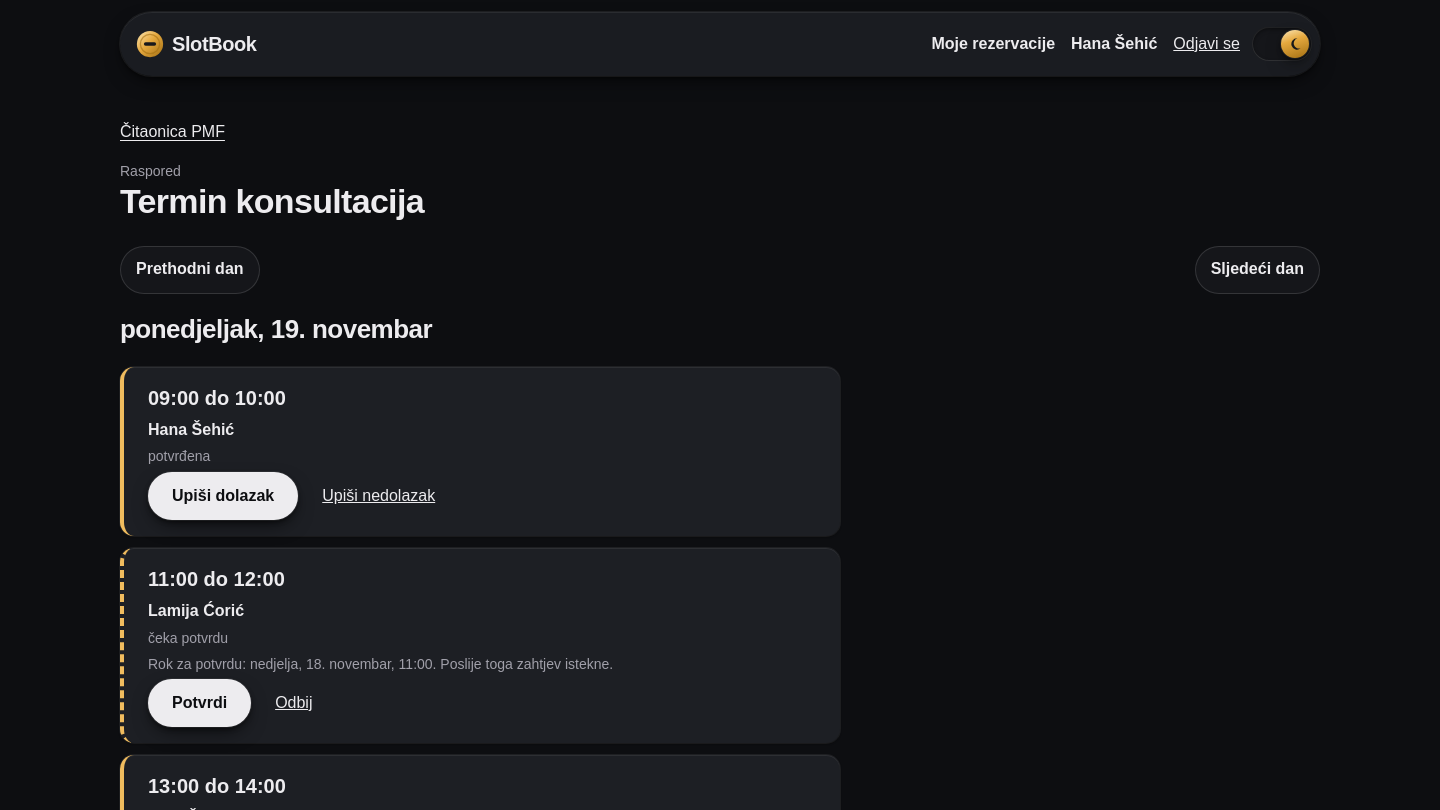
promjene › odbijanje traži potvrdu, a "Ne" ništa ne šalje
This screenshot has width=1440, height=810.
Click the button "Odbij".
click(294, 703)  # box [275,679,312,727]
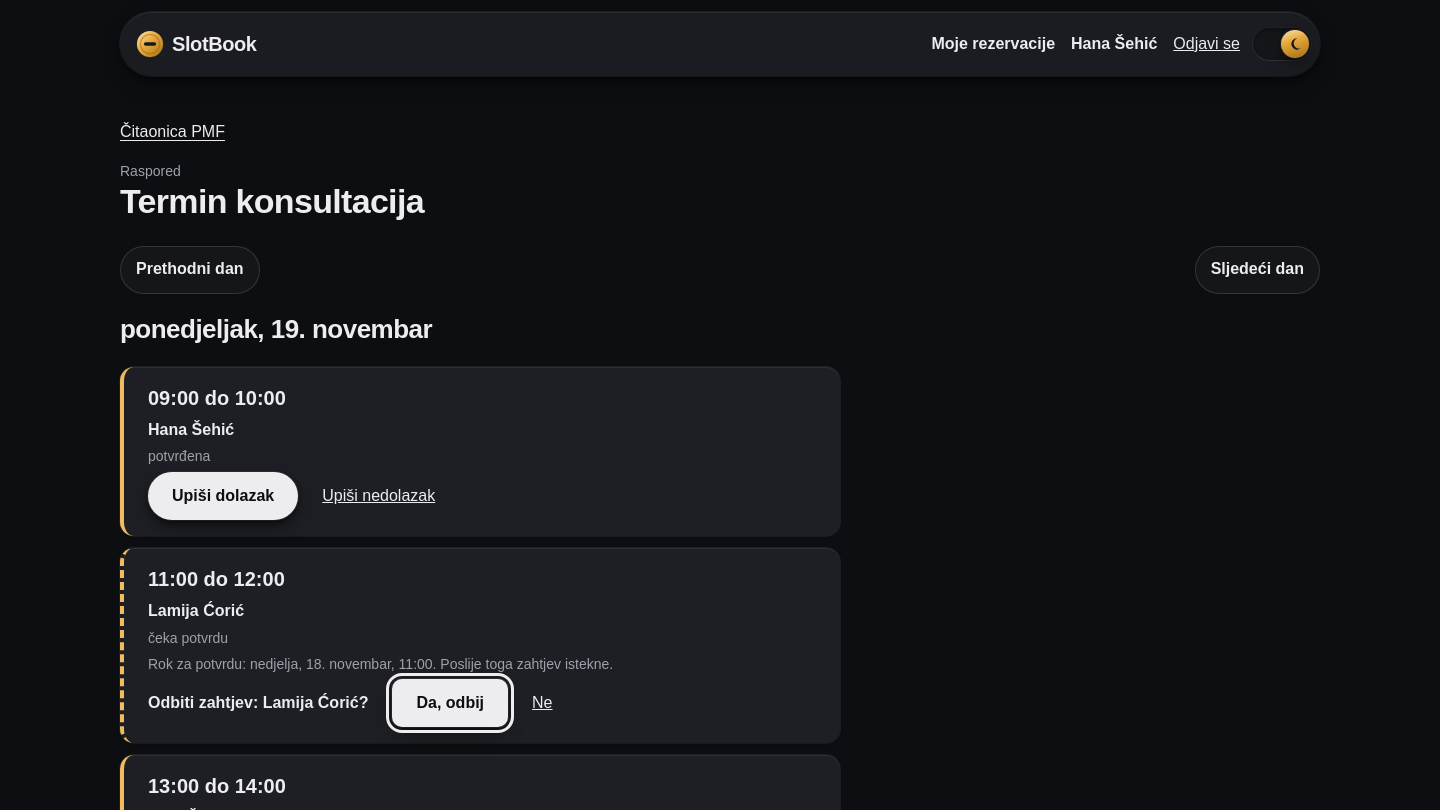
Click the button "Ne".
click(542, 703)  # box [532,679,552,727]
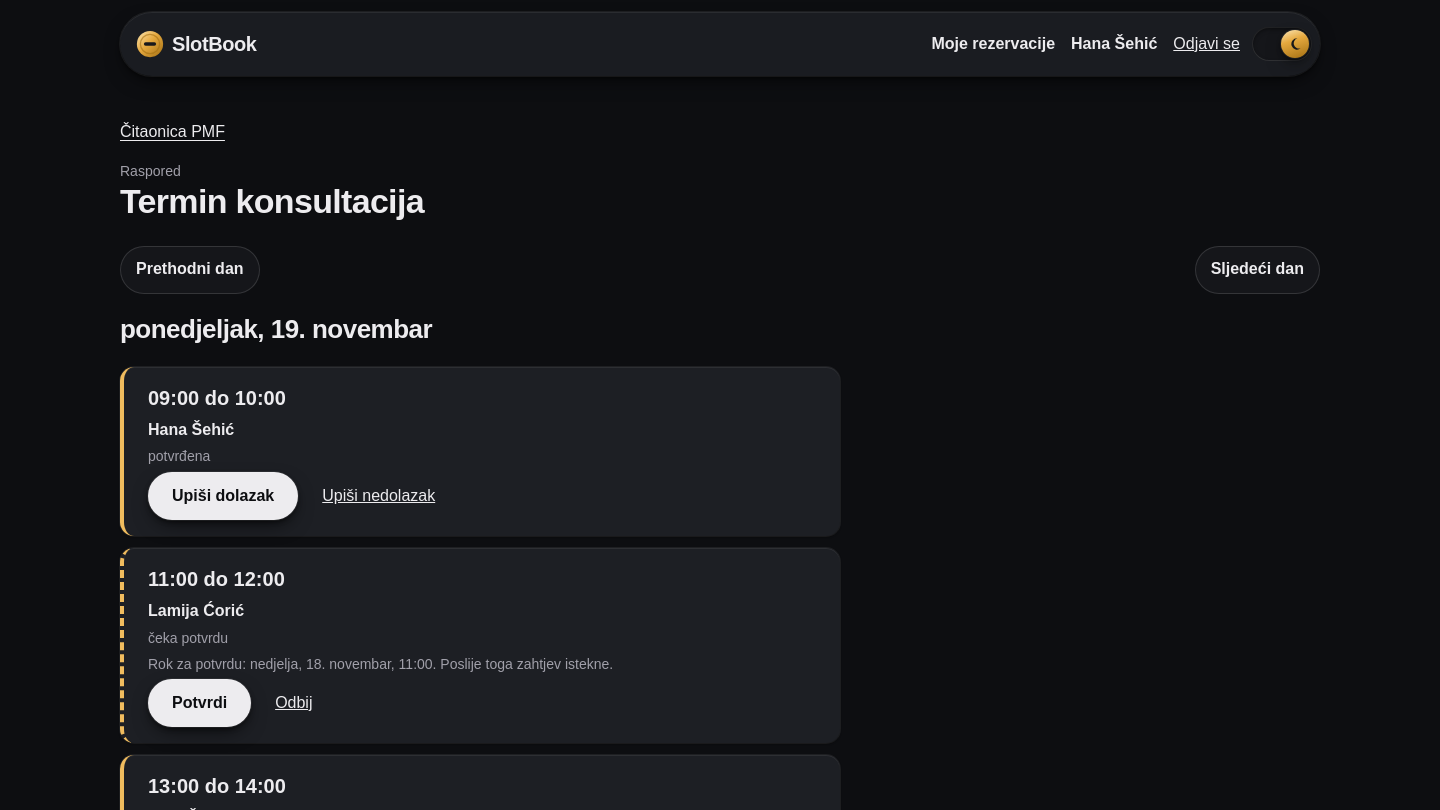
Click the button "Odbij".
click(294, 703)  # box [275,679,312,727]
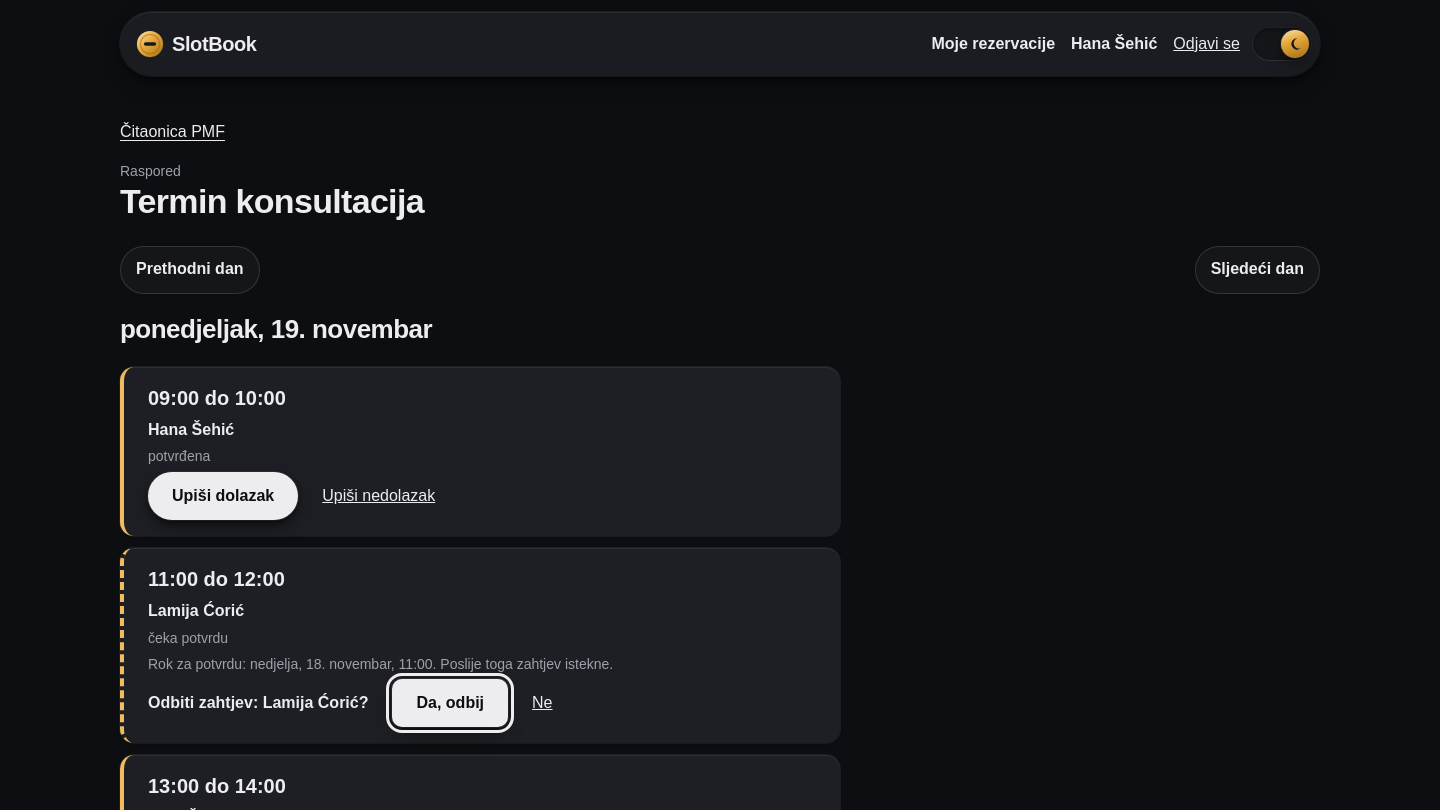
Click the button "Da, odbij".
click(450, 703)  # box [392,679,508,727]
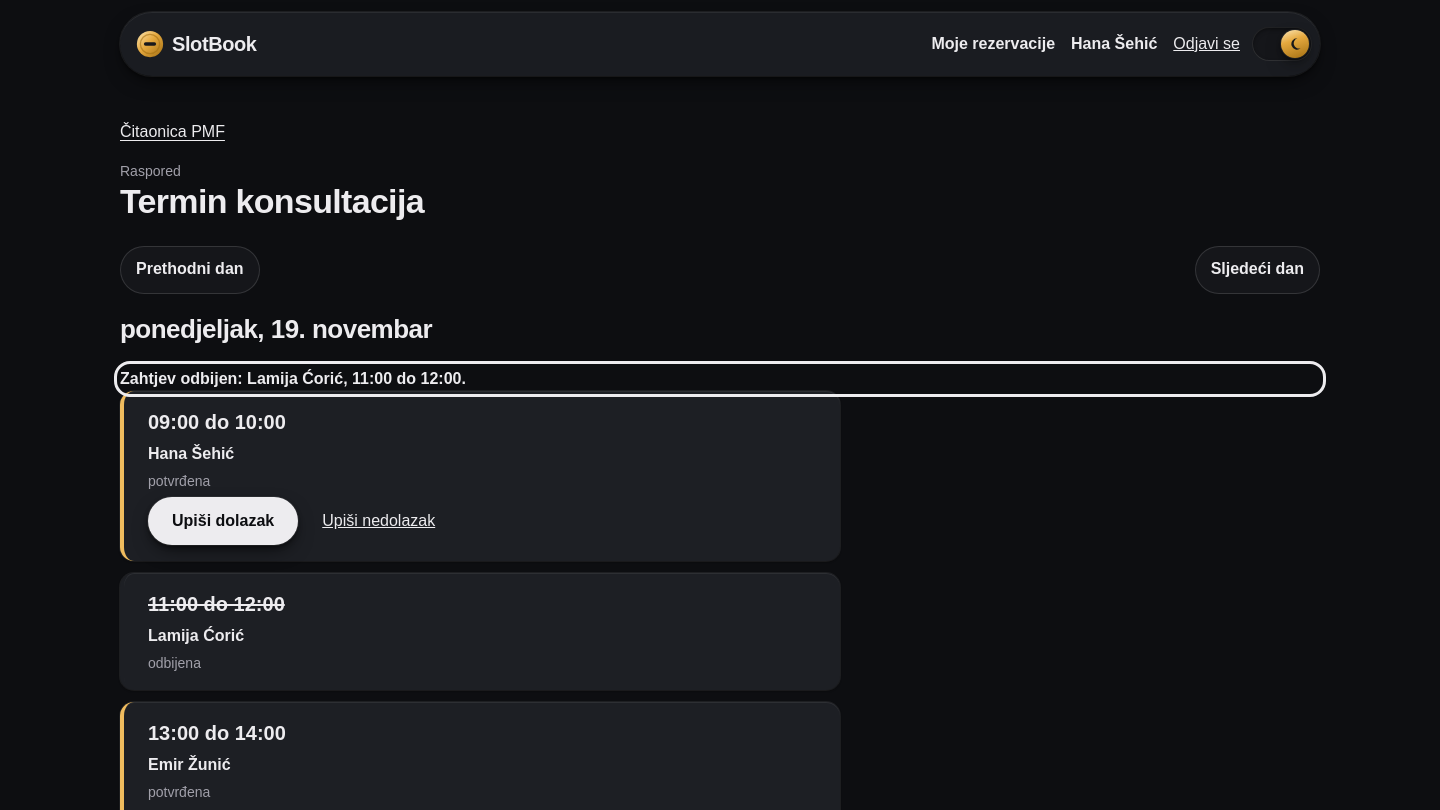
Expected: the text "Zahtjev odbijen: Lamija Ćorić, 11:00 do 12:00." is shown, [120,370,466,387]
